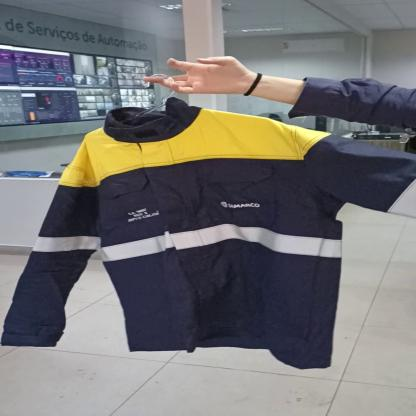C_eletrica: (6, 110, 416, 374)
